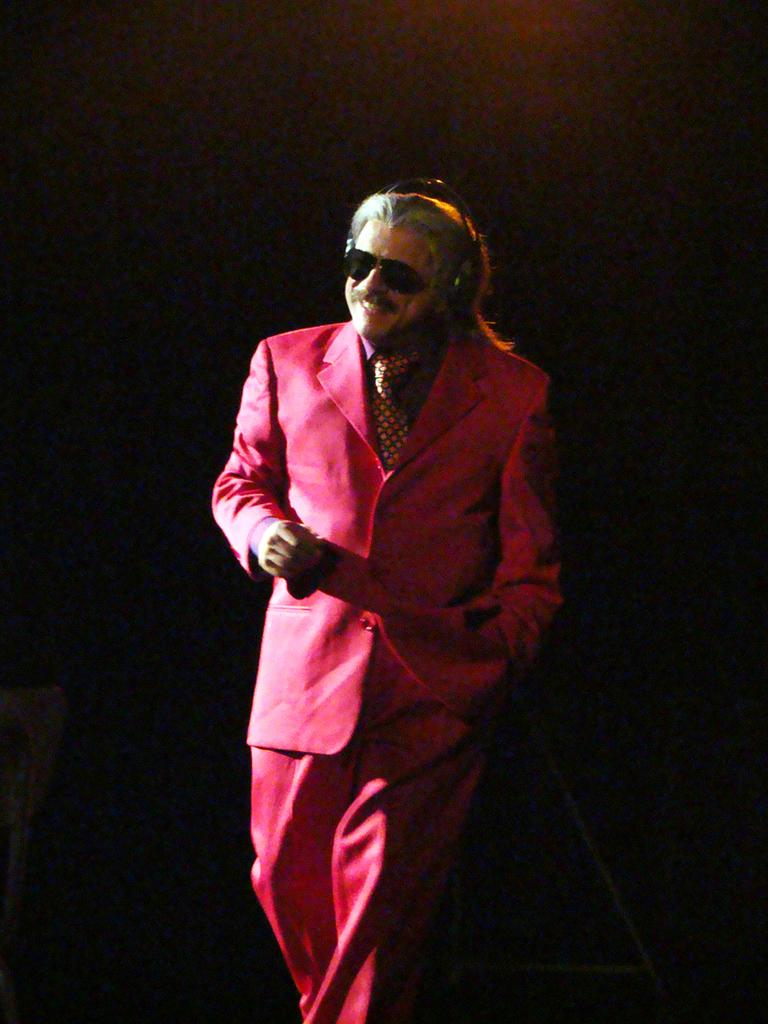Sem Máscara: (340, 212, 441, 346)
